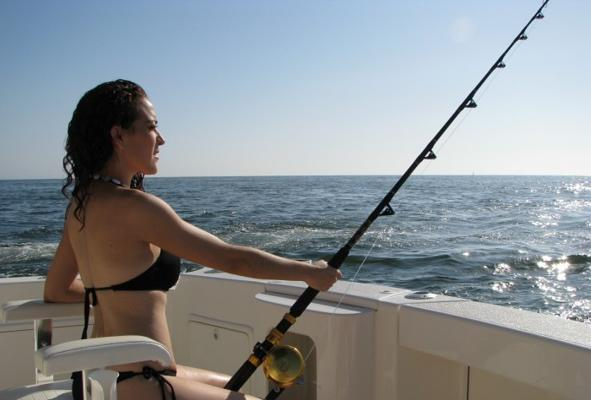person: (43, 80, 343, 400)
